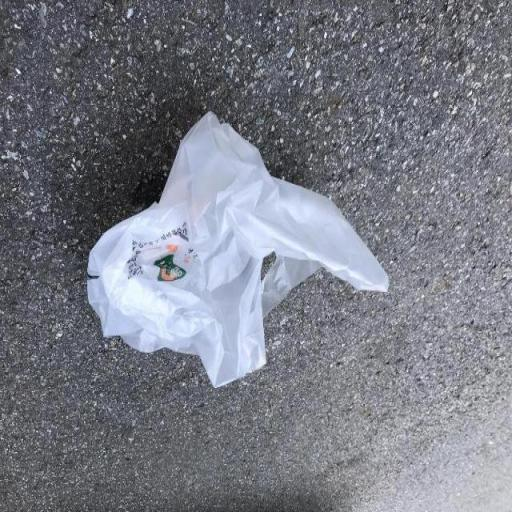plastic-bag: (82, 111, 395, 394)
